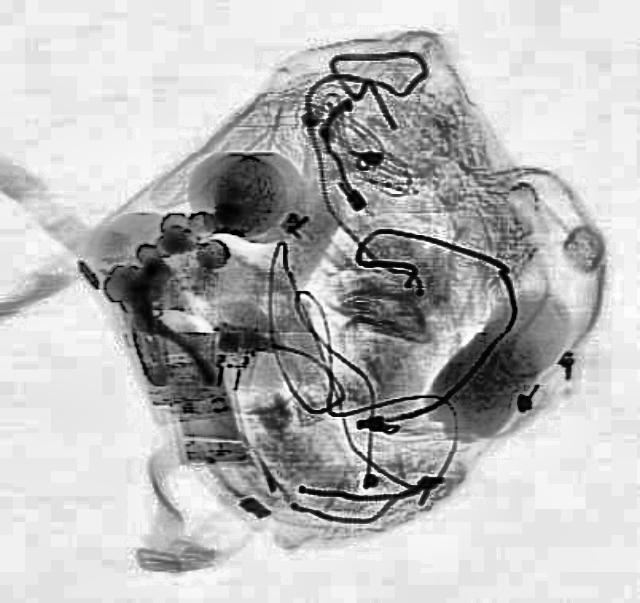Pliers: (99, 265, 215, 400)
